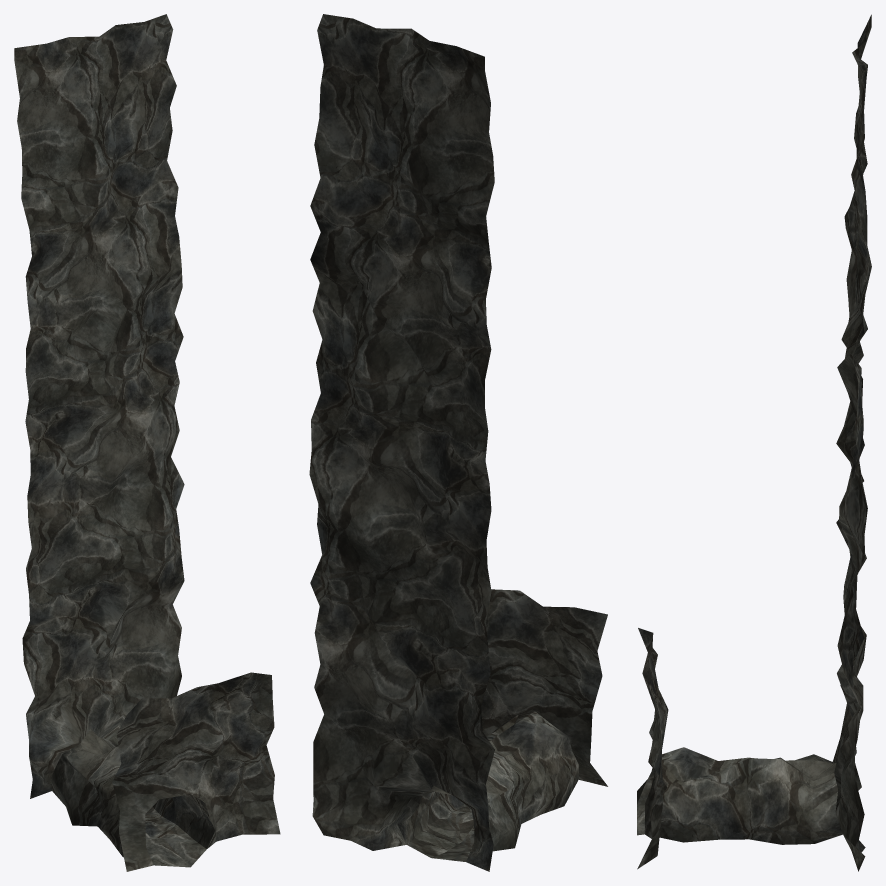
Rendered from CrawlSpace20x4To4x4.fbx.
The picture shows the model from 3 angles, left to right: view 1: azimuth 30°, elevation 25°; view 2: azimuth 150°, elevation 25°; view 3: azimuth 270°, elevation 25°; orthographic projection. The views are drawn at different scales.
Parts seen in each view (by area): view 1: CrawlSpace20x4To4x4; view 2: CrawlSpace20x4To4x4; view 3: CrawlSpace20x4To4x4.
Part boxes in pixels (x1=…): CrawlSpace20x4To4x4: x1=14, y1=14, x2=280, y2=871; CrawlSpace20x4To4x4: x1=309, y1=14, x2=607, y2=871; CrawlSpace20x4To4x4: x1=637, y1=14, x2=871, y2=871.
Size of the model in its own units: 4.65 by 20.68 by 5.57.
